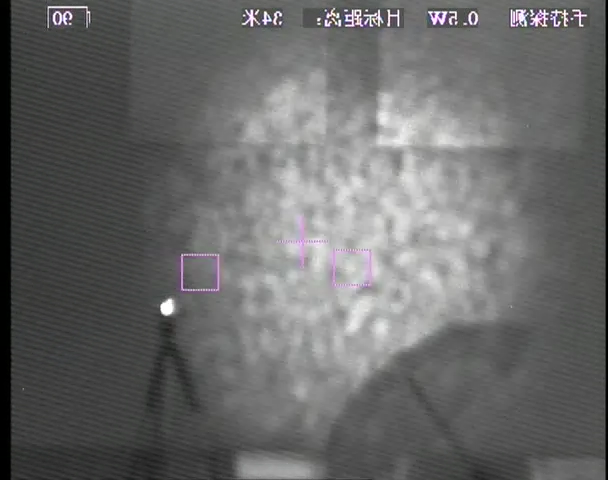my: (158, 296, 174, 316)
